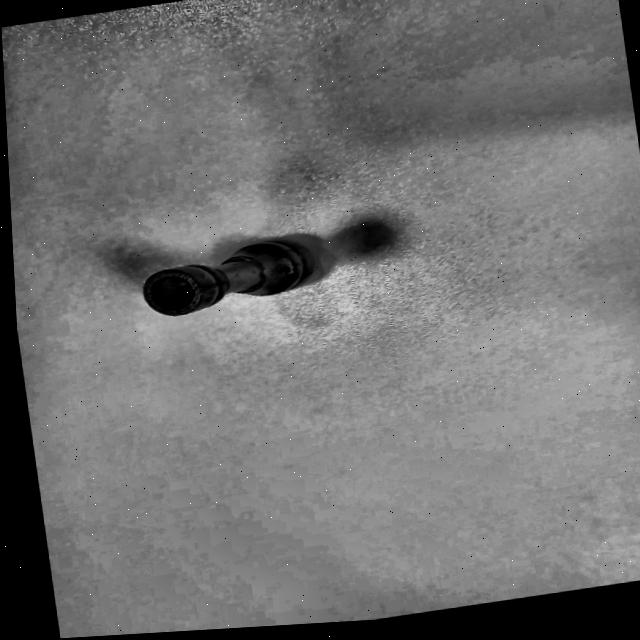black-rook: (120, 222, 345, 335)
